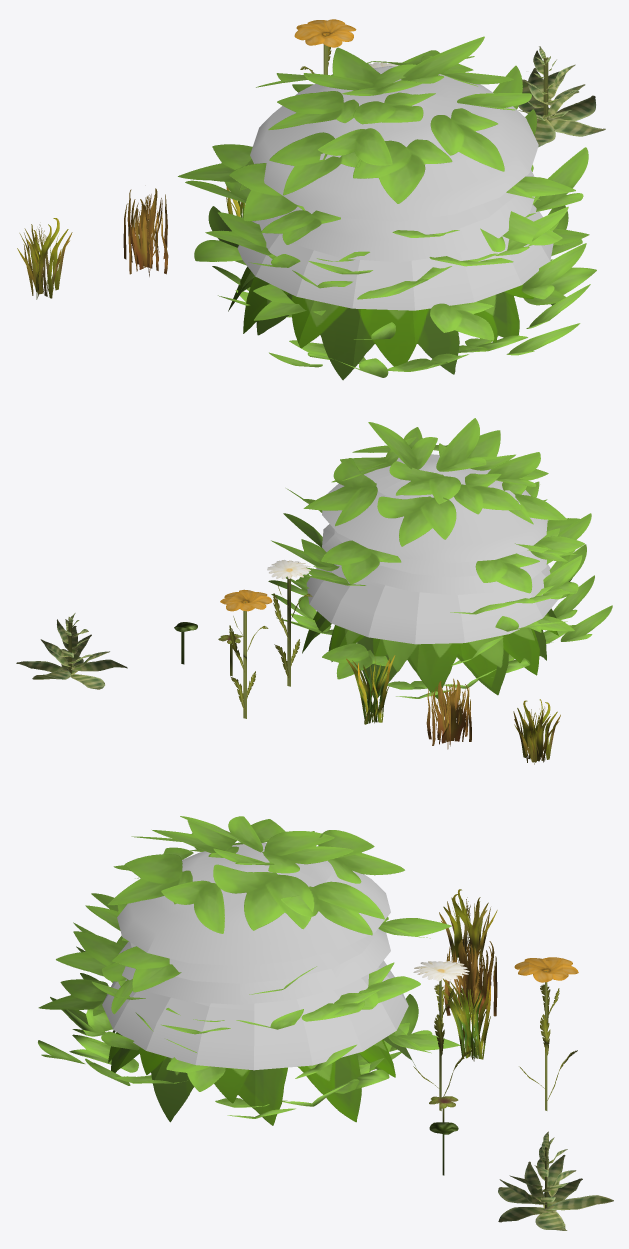
File: Katya_grass.fbx
3 views of the same model, one above another, from view 1: azimuth 30°, elevation 25°; view 2: azimuth 150°, elevation 25°; view 3: azimuth 270°, elevation 25° (orthographic). The views are drawn at different scales.
Visible parts, largest first — view 1: BushBig1, Bush1, Grass1, Grass3, Flower2; view 2: BushBig1, Bush1, Grass1, Flower2, Grass3, Flower1, Grass2; view 3: BushBig1, Bush1, Grass1, Grass2, Flower2, Grass3, Flower1.
Part boxes in pixels (x1,y1,x2,y2): BushBig1: [178, 36, 596, 380]; Bush1: [518, 46, 605, 147]; Grass1: [123, 188, 168, 276]; Grass3: [17, 218, 72, 299]; Flower2: [294, 19, 356, 74]; BushBig1: [268, 418, 612, 698]; Bush1: [16, 613, 127, 689]; Grass1: [426, 678, 471, 749]; Flower2: [220, 589, 272, 718]; Grass3: [513, 699, 560, 764]; Flower1: [267, 560, 312, 686]; Grass2: [346, 655, 395, 724]; BushBig1: [38, 816, 460, 1125]; Bush1: [498, 1131, 613, 1230]; Grass1: [444, 935, 497, 1019]; Grass2: [443, 977, 490, 1061]; Flower2: [514, 957, 578, 1110]; Grass3: [439, 889, 497, 964]; Flower1: [413, 961, 472, 1110].
Size of the model in its own units: 167 by 67.79 by 142.
